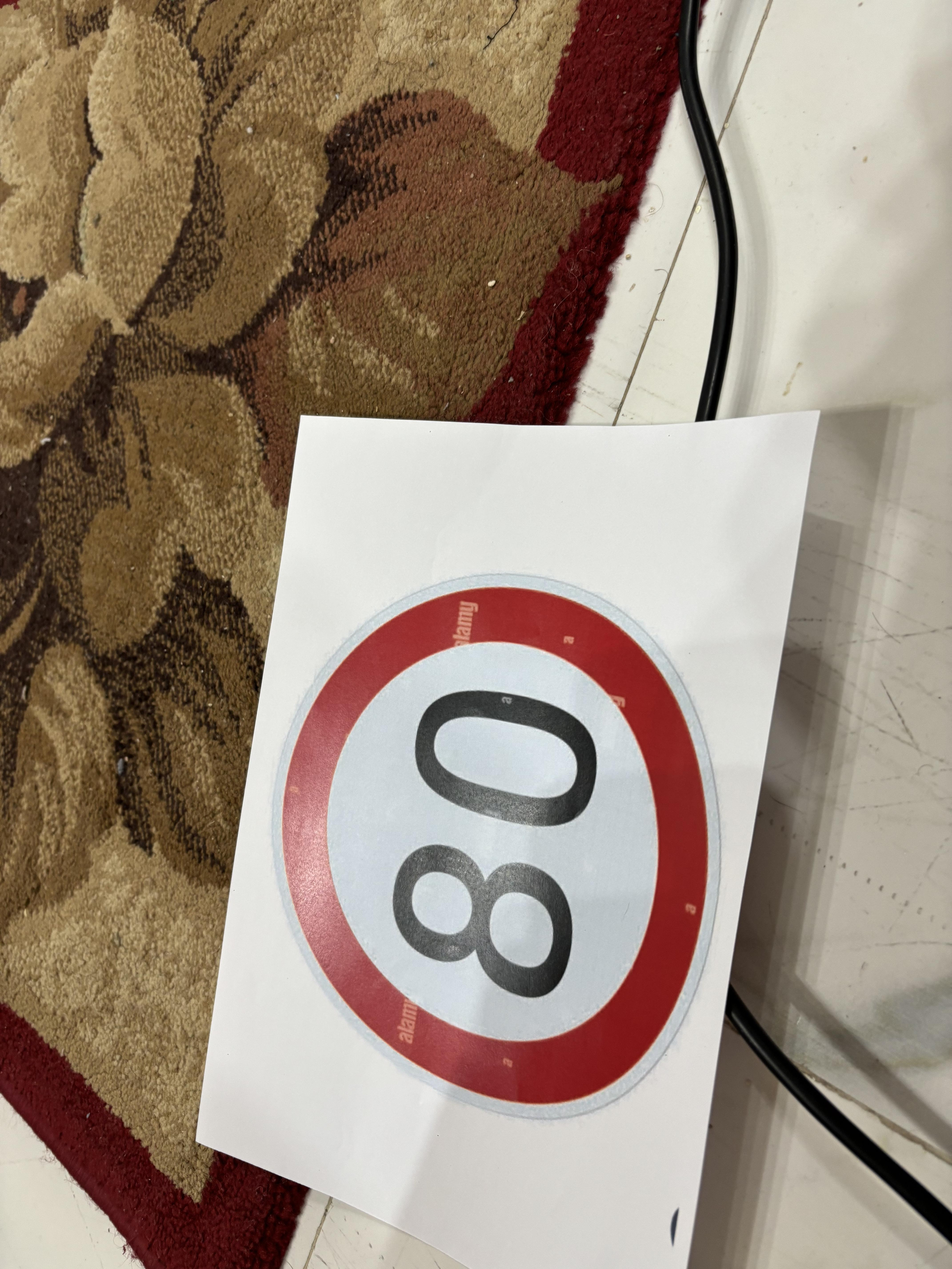80-Speed: (256, 563, 726, 1107)
